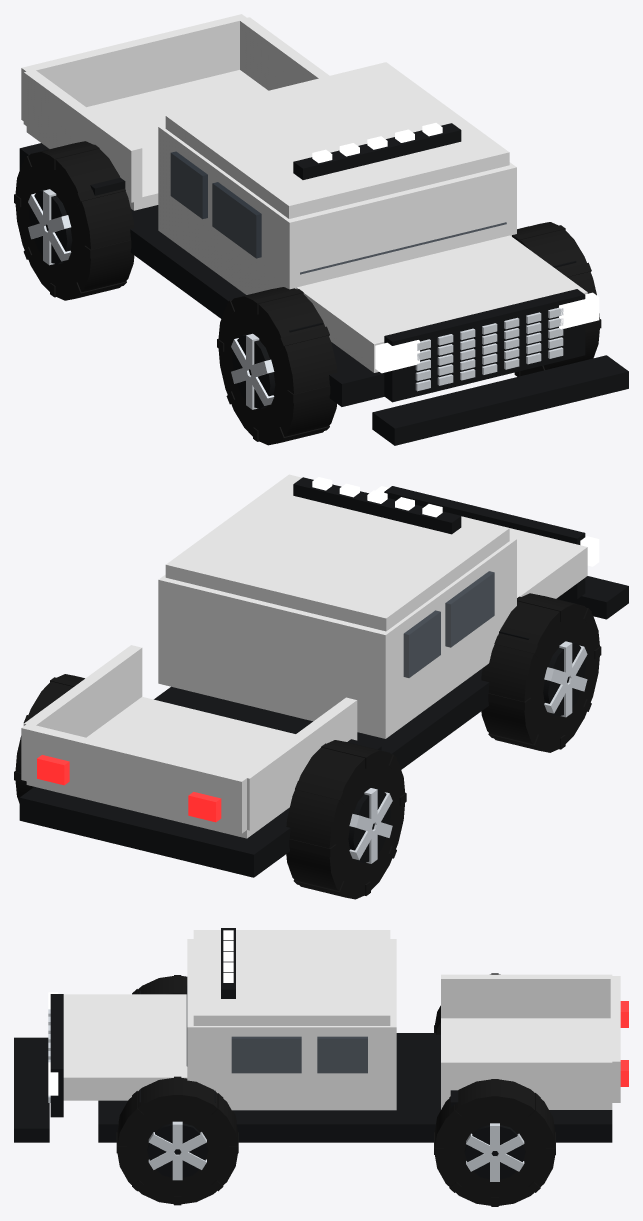
The model's file is coyota-tasmanian-devil.glb.
The picture shows the model from 3 angles, top to bottom: view 1: azimuth 30°, elevation 25°; view 2: azimuth 150°, elevation 25°; view 3: azimuth 270°, elevation 25°; orthographic projection. The views are drawn at different scales.
Visible parts, largest first — view 1: chassis, wheel-front-left, wheel-back-left, wheel-front-right; view 2: chassis, wheel-back-left, wheel-front-left, wheel-back-right; view 3: chassis, wheel-front-right, wheel-back-right, wheel-front-left.
Part boxes in pixels (x1=…): chassis: x1=19, y1=14, x2=628, y2=445; wheel-front-left: x1=217, y1=287, x2=337, y2=445; wheel-back-left: x1=14, y1=141, x2=134, y2=300; wheel-front-right: x1=512, y1=222, x2=601, y2=376; chassis: x1=19, y1=474, x2=628, y2=877; wheel-back-left: x1=286, y1=740, x2=406, y2=899; wheel-front-left: x1=481, y1=593, x2=601, y2=752; wheel-back-right: x1=14, y1=674, x2=84, y2=803; chassis: x1=14, y1=928, x2=628, y2=1142; wheel-front-right: x1=116, y1=1076, x2=238, y2=1205; wheel-back-right: x1=434, y1=1079, x2=555, y2=1206; wheel-front-left: x1=132, y1=975, x2=187, y2=994.
Size of the model in its own units: 2.38 by 1.66 by 4.85.
